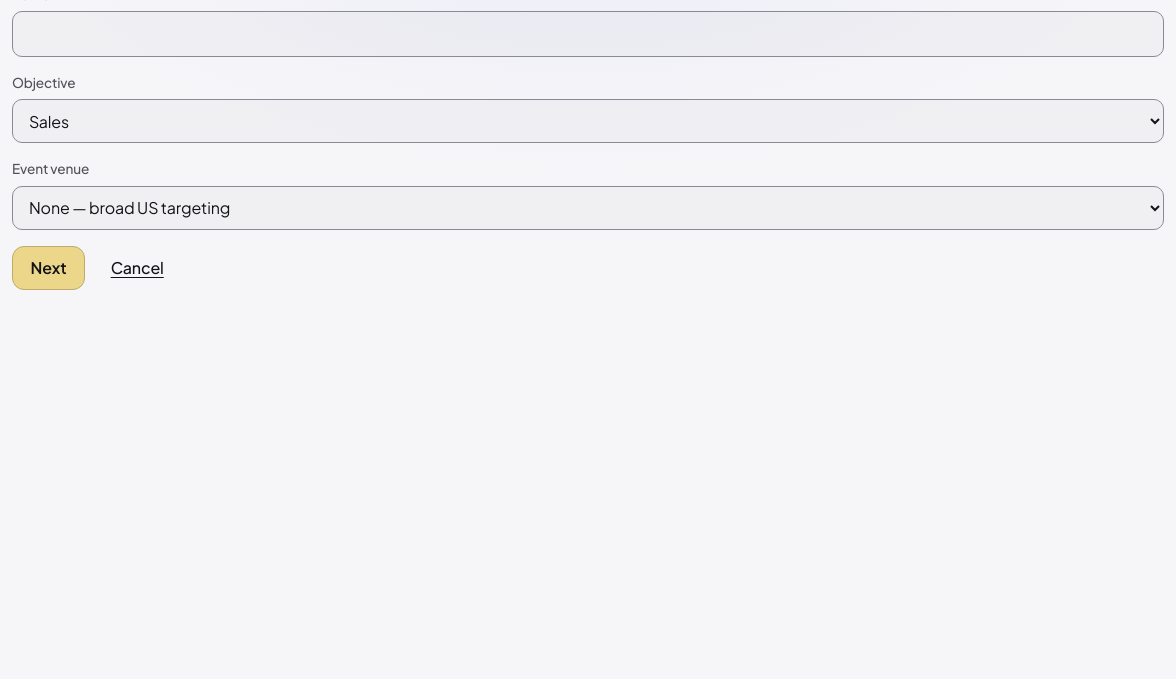
NewCampaignFlow › shows the "Use an existing audience instead" link only when the business has audiences
Click the button "Next". click: (49, 268)
box: [12,246,85,290]
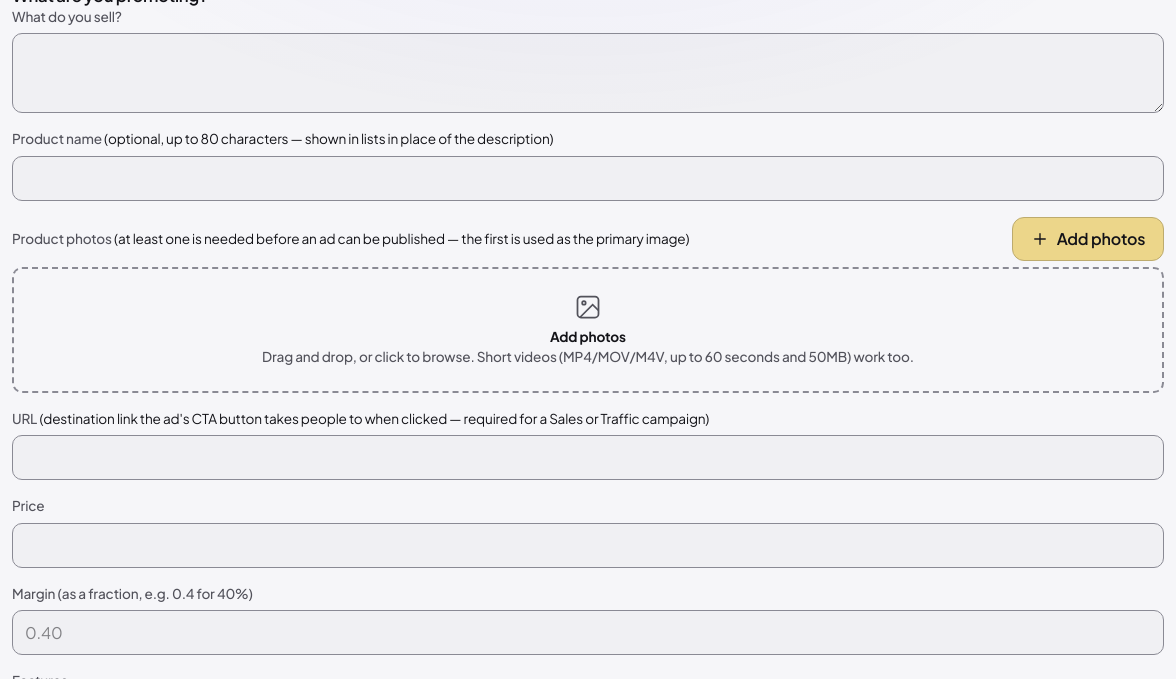
Type "Necklaces" into the text box labelled "What do you sell?". click: (588, 73)
box: [12,33,1164,113]
(page scrolled)
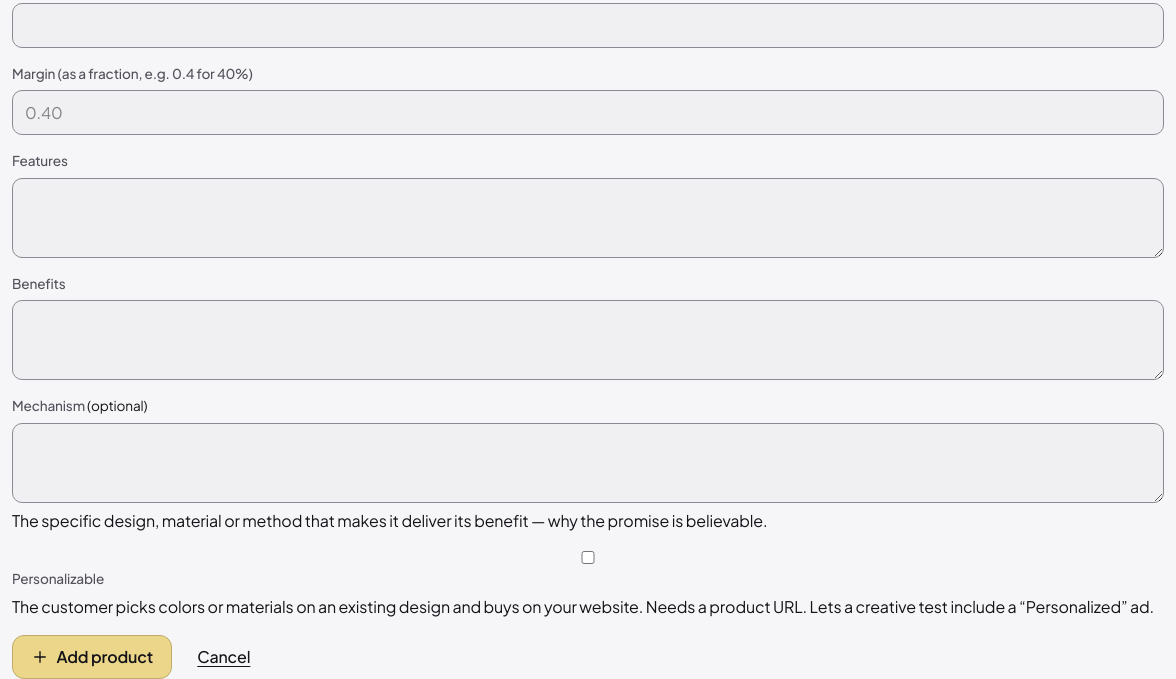
Click the button "Add product". click: (92, 657)
box: [12,635,172,678]
(page scrolled)
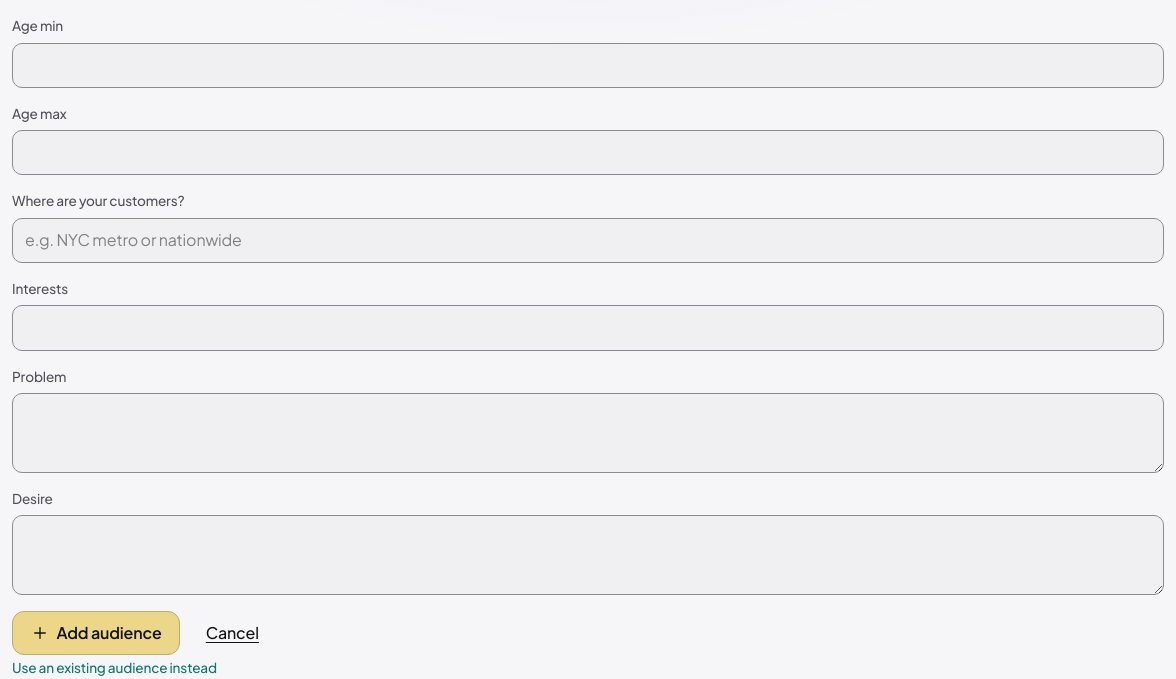
Result: the button "Use an existing audience instead" is shown at [12,658,217,678]
